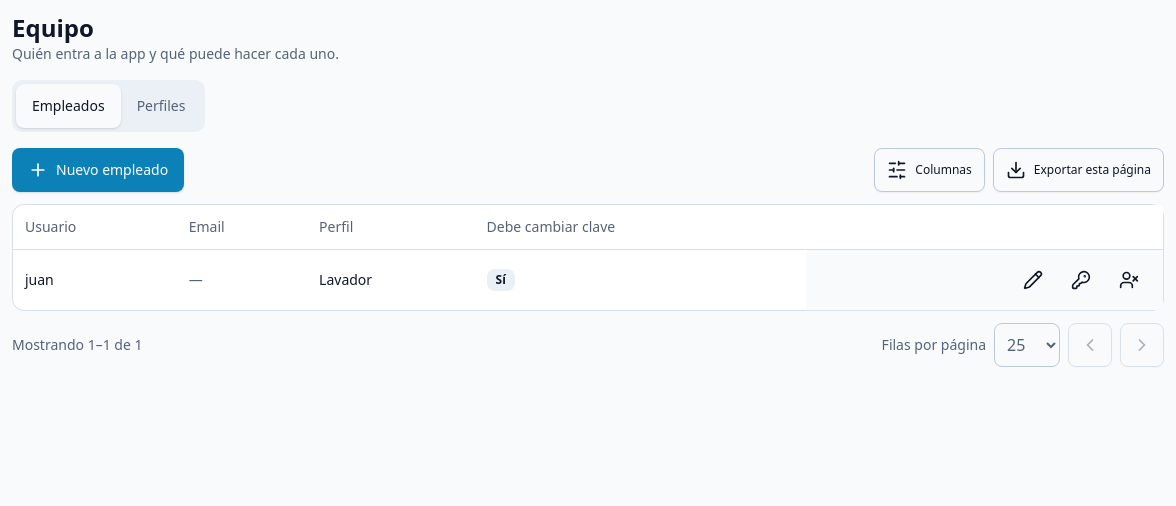
Test: Perfiles › lista cada perfil con sus permisos en castellano
Click the tab "Perfiles": click(161, 106) [121, 84, 201, 128]
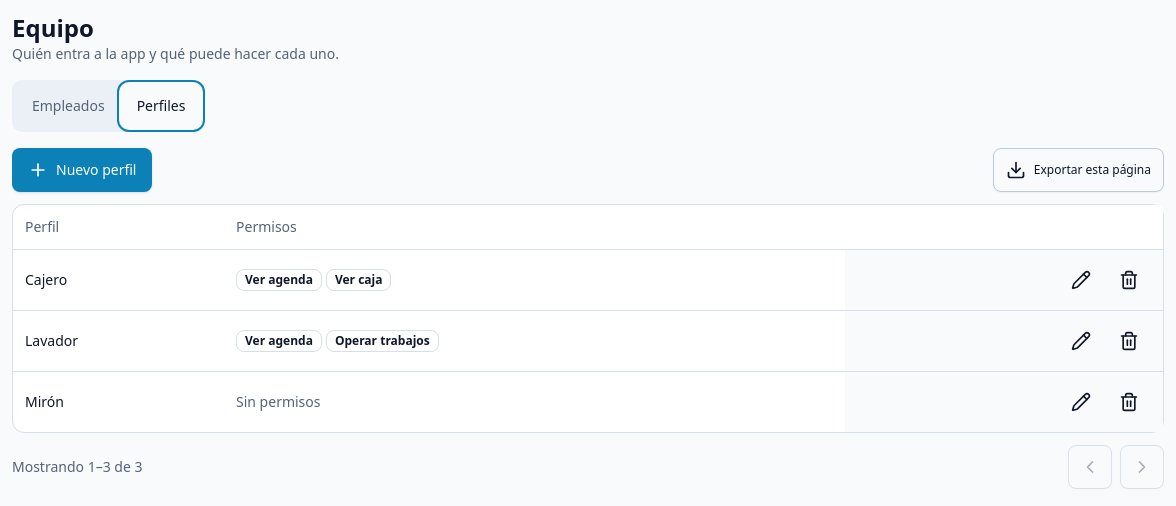
Expected: the text "Ver agenda" next to "Ver caja" is shown, [245, 270, 313, 288]
Expected: the text "Ver caja" is shown, [326, 268, 391, 290]
Expected: the text "Sin permisos" is shown, [236, 392, 320, 410]
